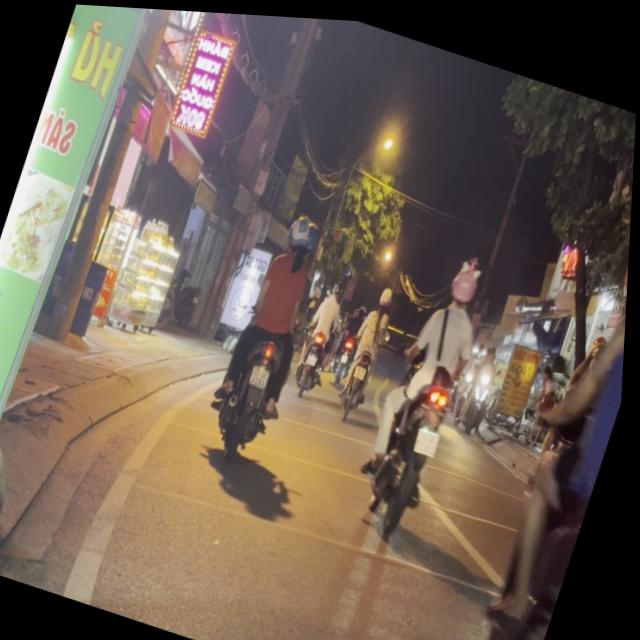helmet: (449, 247, 489, 304), (284, 205, 320, 254)
licenseplate: (453, 180, 634, 640), (349, 235, 504, 540), (199, 194, 343, 462)
nohelmet: (415, 420, 445, 451), (250, 360, 273, 385)
